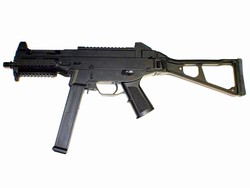rifle: (5, 34, 249, 157)
